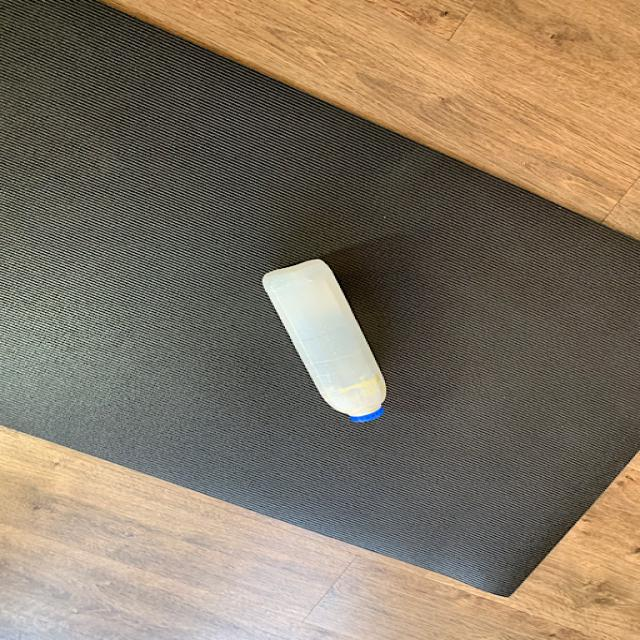litter: (259, 259, 395, 429)
